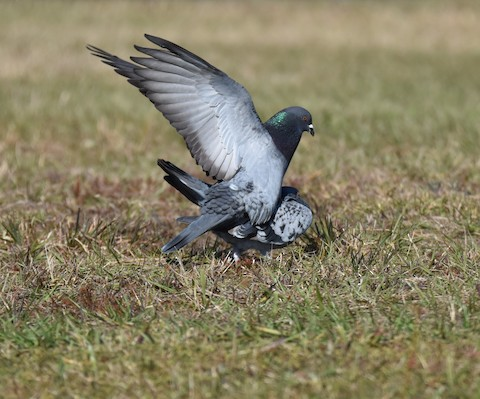pigeon: (84, 31, 319, 256)
